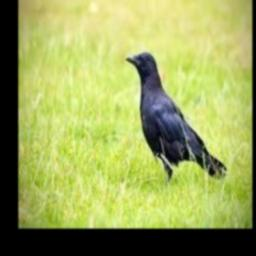Crow: (125, 52, 227, 191)
